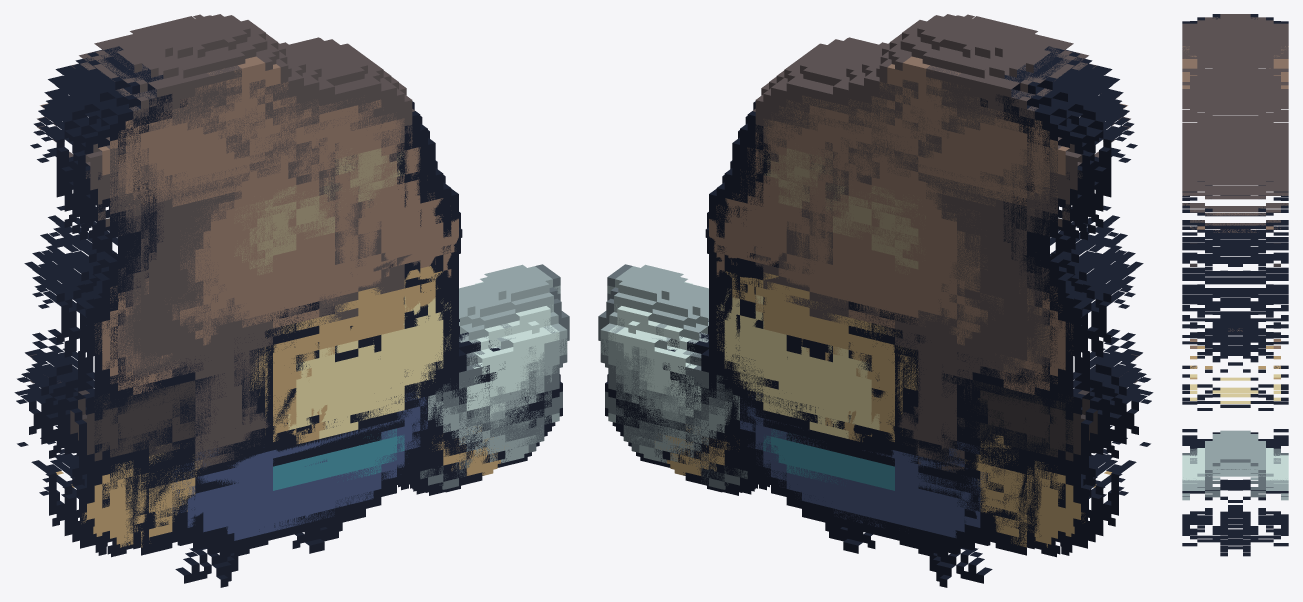
Rendered from faca_parado.glb.
3 renders of one model, left to right at view 1: azimuth 30°, elevation 25°; view 2: azimuth 150°, elevation 25°; view 3: azimuth 270°, elevation 25°, orthographic. The views are drawn at different scales.
Parts seen in each view (by area): view 1: q0, q1, q2, q6, q5, q3, q7, q4; view 2: q0, q1, q2, q6, q5, q3, q4, q7; view 3: q2, q3, q1, q4, q0, q6, q5, q7.
Part boxes in pixels (box(x1,y1,x2,y2)): q0: box(32, 72, 536, 587); q1: box(48, 79, 551, 556); q2: box(48, 14, 559, 546); q6: box(17, 21, 544, 534); q5: box(30, 63, 551, 555); q3: box(48, 14, 569, 529); q7: box(14, 45, 536, 548); q4: box(32, 72, 567, 555); q0: box(631, 80, 1135, 587); q1: box(616, 79, 1119, 556); q2: box(608, 14, 1119, 561); q6: box(624, 21, 1150, 535); q5: box(616, 48, 1137, 555); q3: box(598, 14, 1119, 529); q4: box(600, 71, 1135, 555); q7: box(632, 47, 1153, 548); q2: box(1182, 35, 1288, 552); q3: box(1182, 38, 1288, 548); q1: box(1182, 55, 1288, 556); q4: box(1182, 55, 1288, 545); q0: box(1182, 71, 1288, 541); q6: box(1182, 14, 1288, 549); q5: box(1182, 42, 1288, 542); q7: box(1182, 17, 1288, 539).
Size of the model in its own units: 68 by 67 by 14.
Materials: 1 (1 with a texture image).
